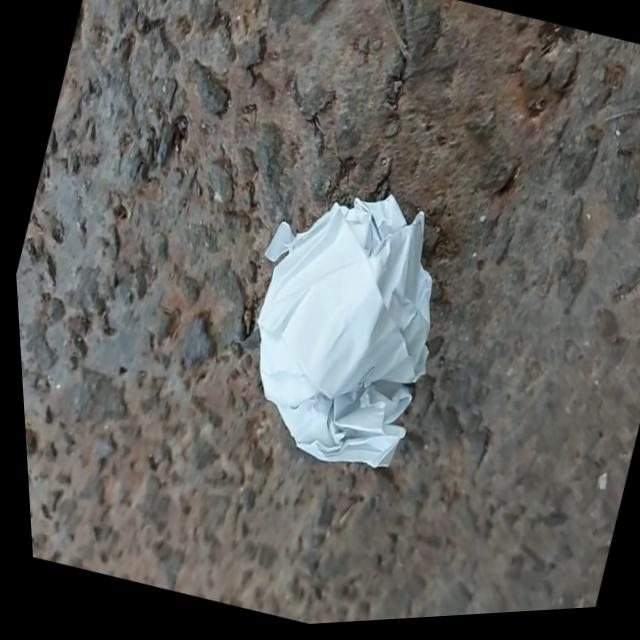paper: (258, 195, 431, 466)
